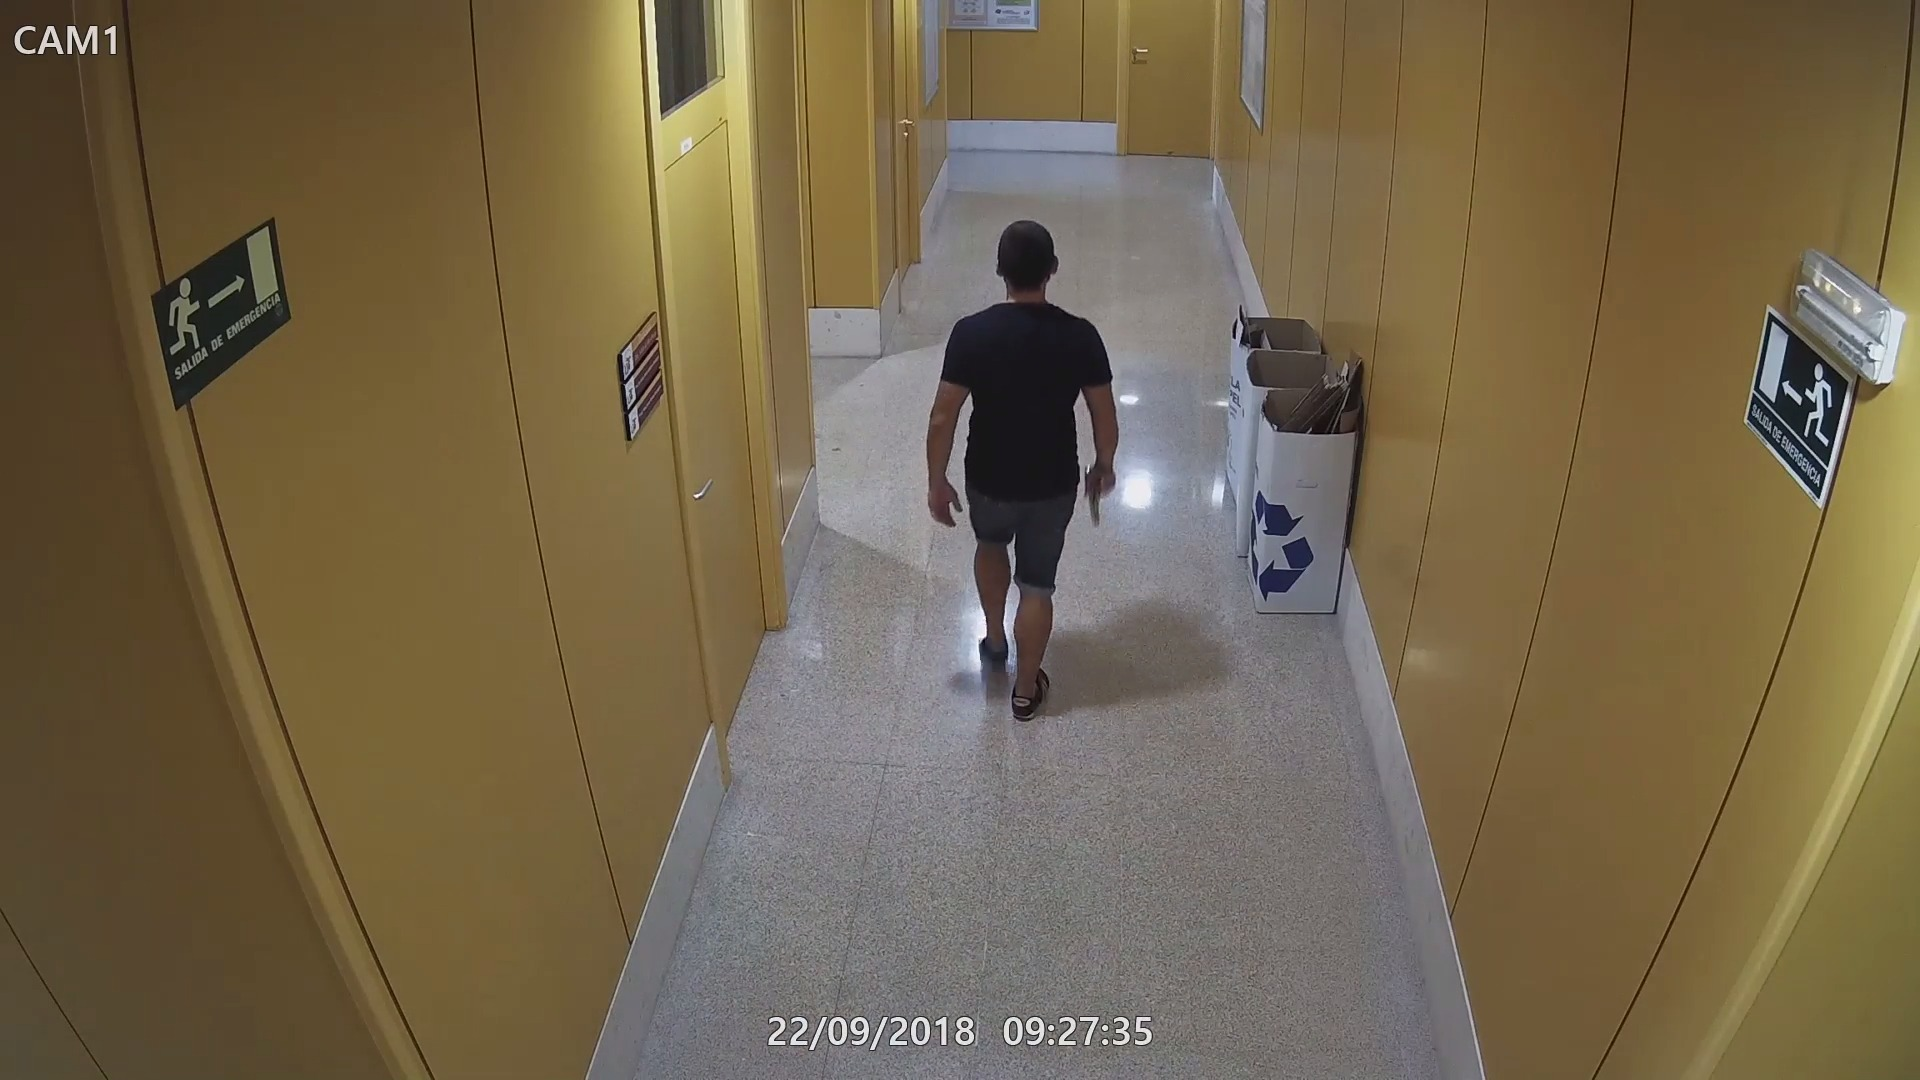Handgun: (1084, 460, 1121, 527)
